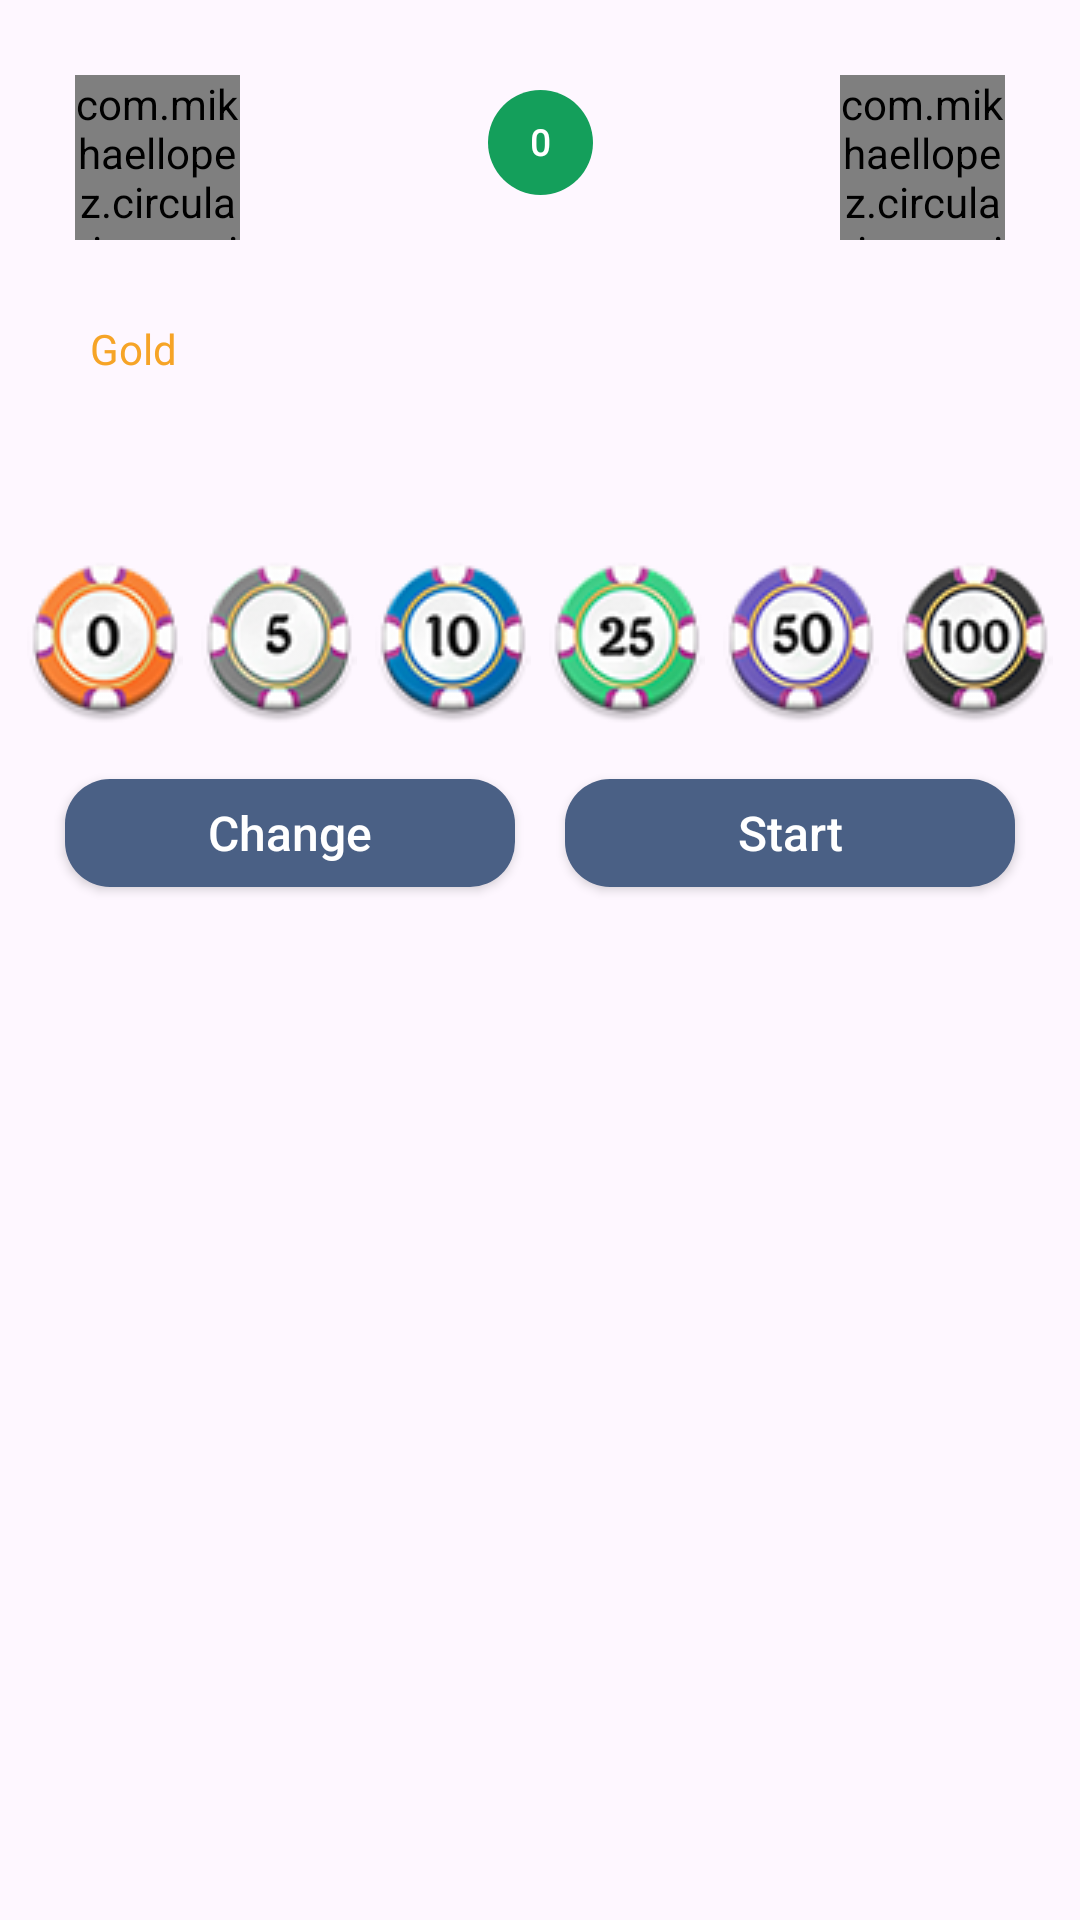

Icon bounding boxes for this 1080px x 1920px phone screenshot, format (x1, y1, x2, y2):
chip: (33, 566, 177, 719), (207, 566, 351, 719), (381, 566, 525, 719), (555, 566, 699, 719), (729, 566, 873, 719), (903, 566, 1047, 719)
